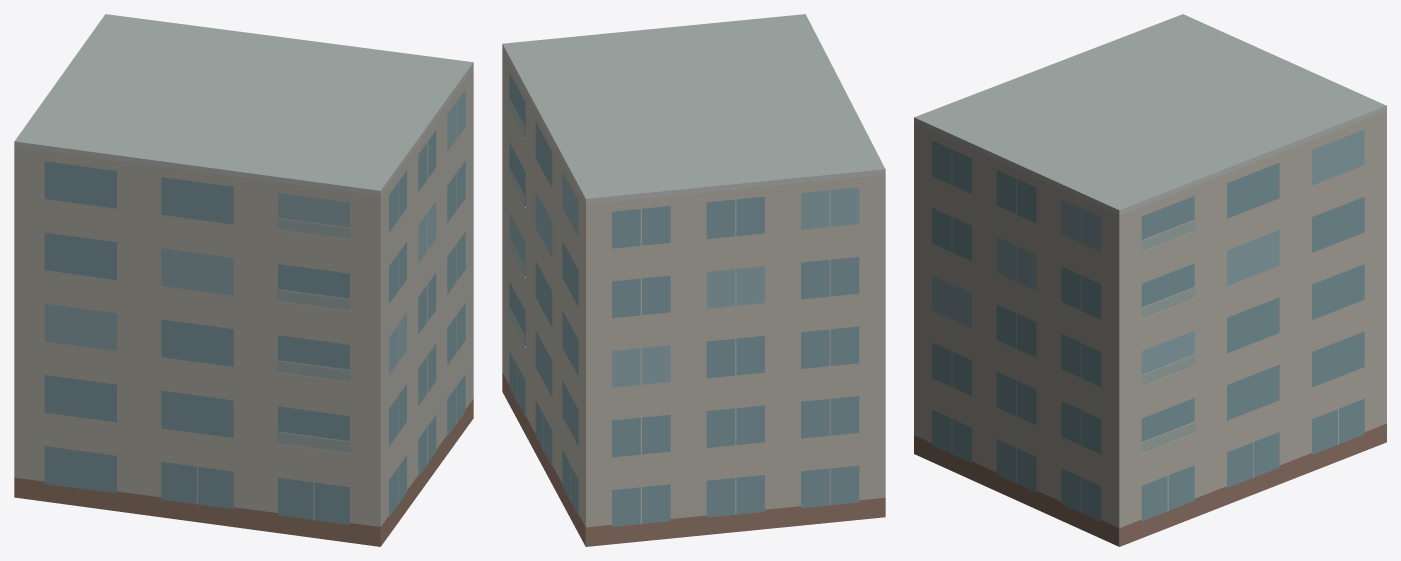
File: survey-upis-32864633.glb
3 renders of one model, left to right at view 1: azimuth 30°, elevation 25°; view 2: azimuth 150°, elevation 25°; view 3: azimuth 270°, elevation 25°, orthographic. The views are drawn at different scales.
Visible parts, largest first — view 1: survey-upis-32864633.tmp; view 2: survey-upis-32864633.tmp; view 3: survey-upis-32864633.tmp.
Boxes of the visible parts, left/top/right/bottom form: survey-upis-32864633.tmp: left=14, top=14, right=473, bottom=546; survey-upis-32864633.tmp: left=502, top=14, right=885, bottom=546; survey-upis-32864633.tmp: left=914, top=14, right=1386, bottom=546.
Bounding box in the file's own units: 19.77 × 15.8 × 20.12.
